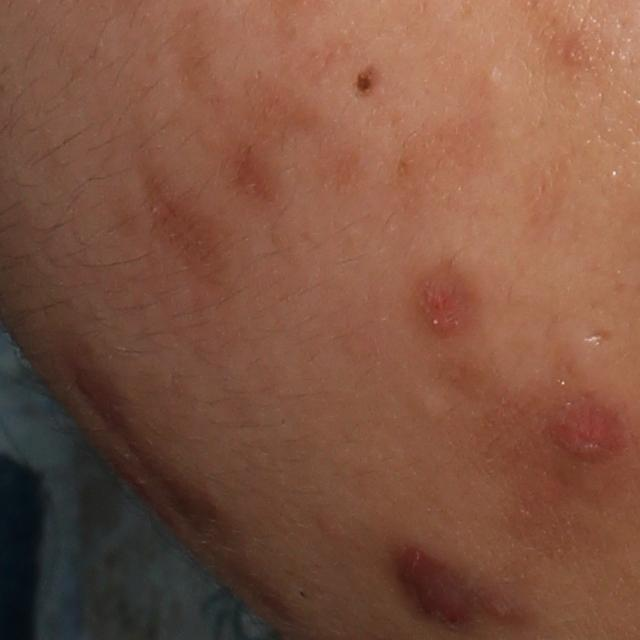atrophic_scar: (141, 181, 178, 238), (233, 158, 283, 200), (584, 326, 612, 351)
comedo: (410, 390, 451, 427), (478, 67, 509, 98)
nevus: (352, 72, 377, 96)
papule: (401, 548, 478, 634), (556, 406, 620, 462), (416, 273, 467, 335)
